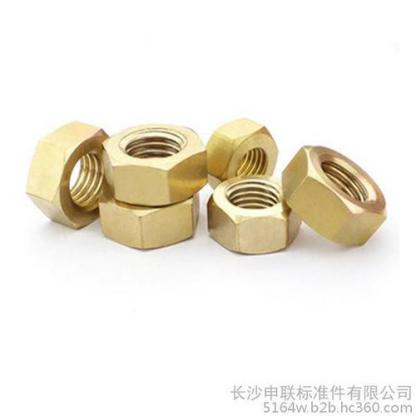FOD: (280, 142, 389, 250), (24, 119, 117, 233), (97, 119, 210, 207), (206, 174, 304, 257), (96, 184, 204, 250), (203, 116, 280, 197)
